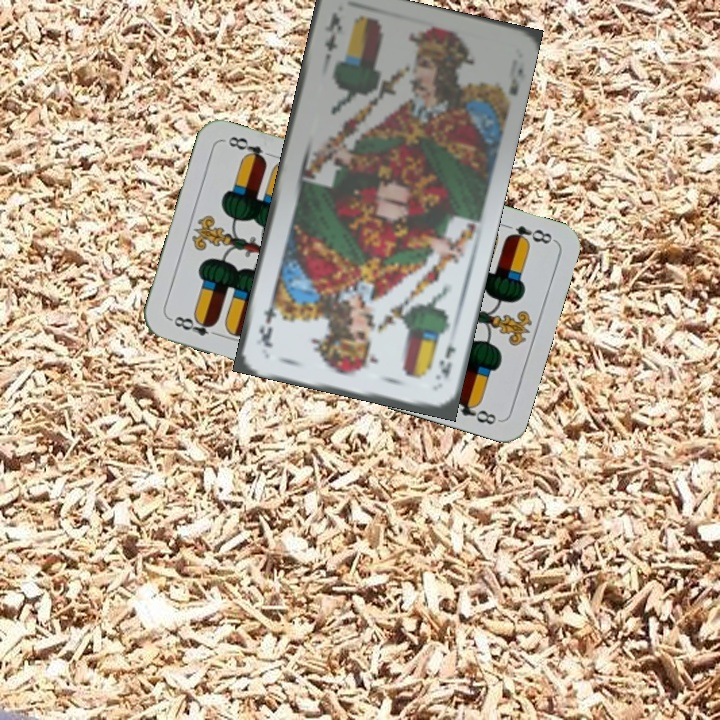E8: (166, 312, 224, 340), (501, 221, 555, 248)
EK: (320, 9, 345, 68), (431, 341, 458, 382)
